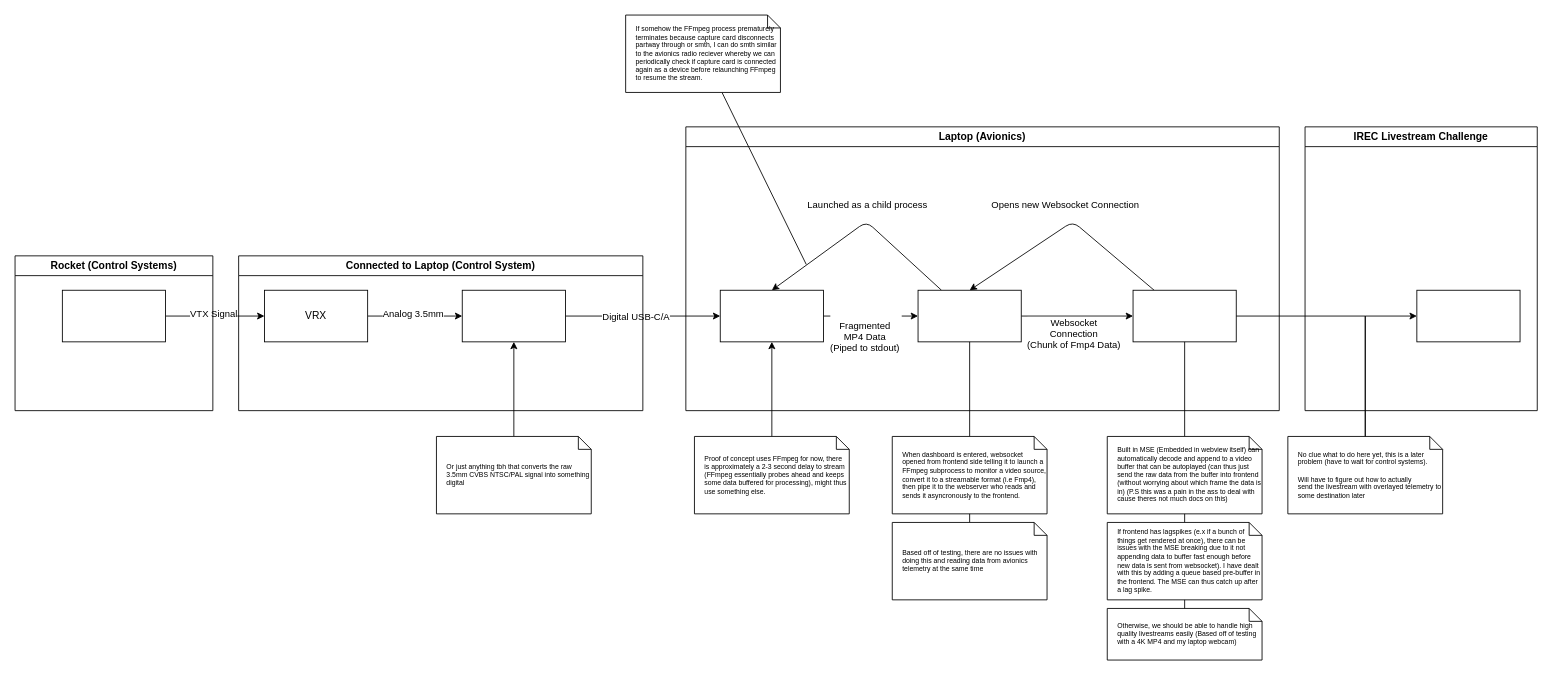
Some shapes in this 1552 by 675 pixel diagram are drawn without their labels. The shapes that lost their labels are listed below. From the top down, each one's centre as x and y in pixels, then its label:
pixel 113 315: VTX
pixel 513 315: Capture Card
pixel 771 315: FFmpeg (Or Alternative)
pixel 969 315: Webserver
pixel 1184 315: Frontend
pixel 1468 315: TBD
